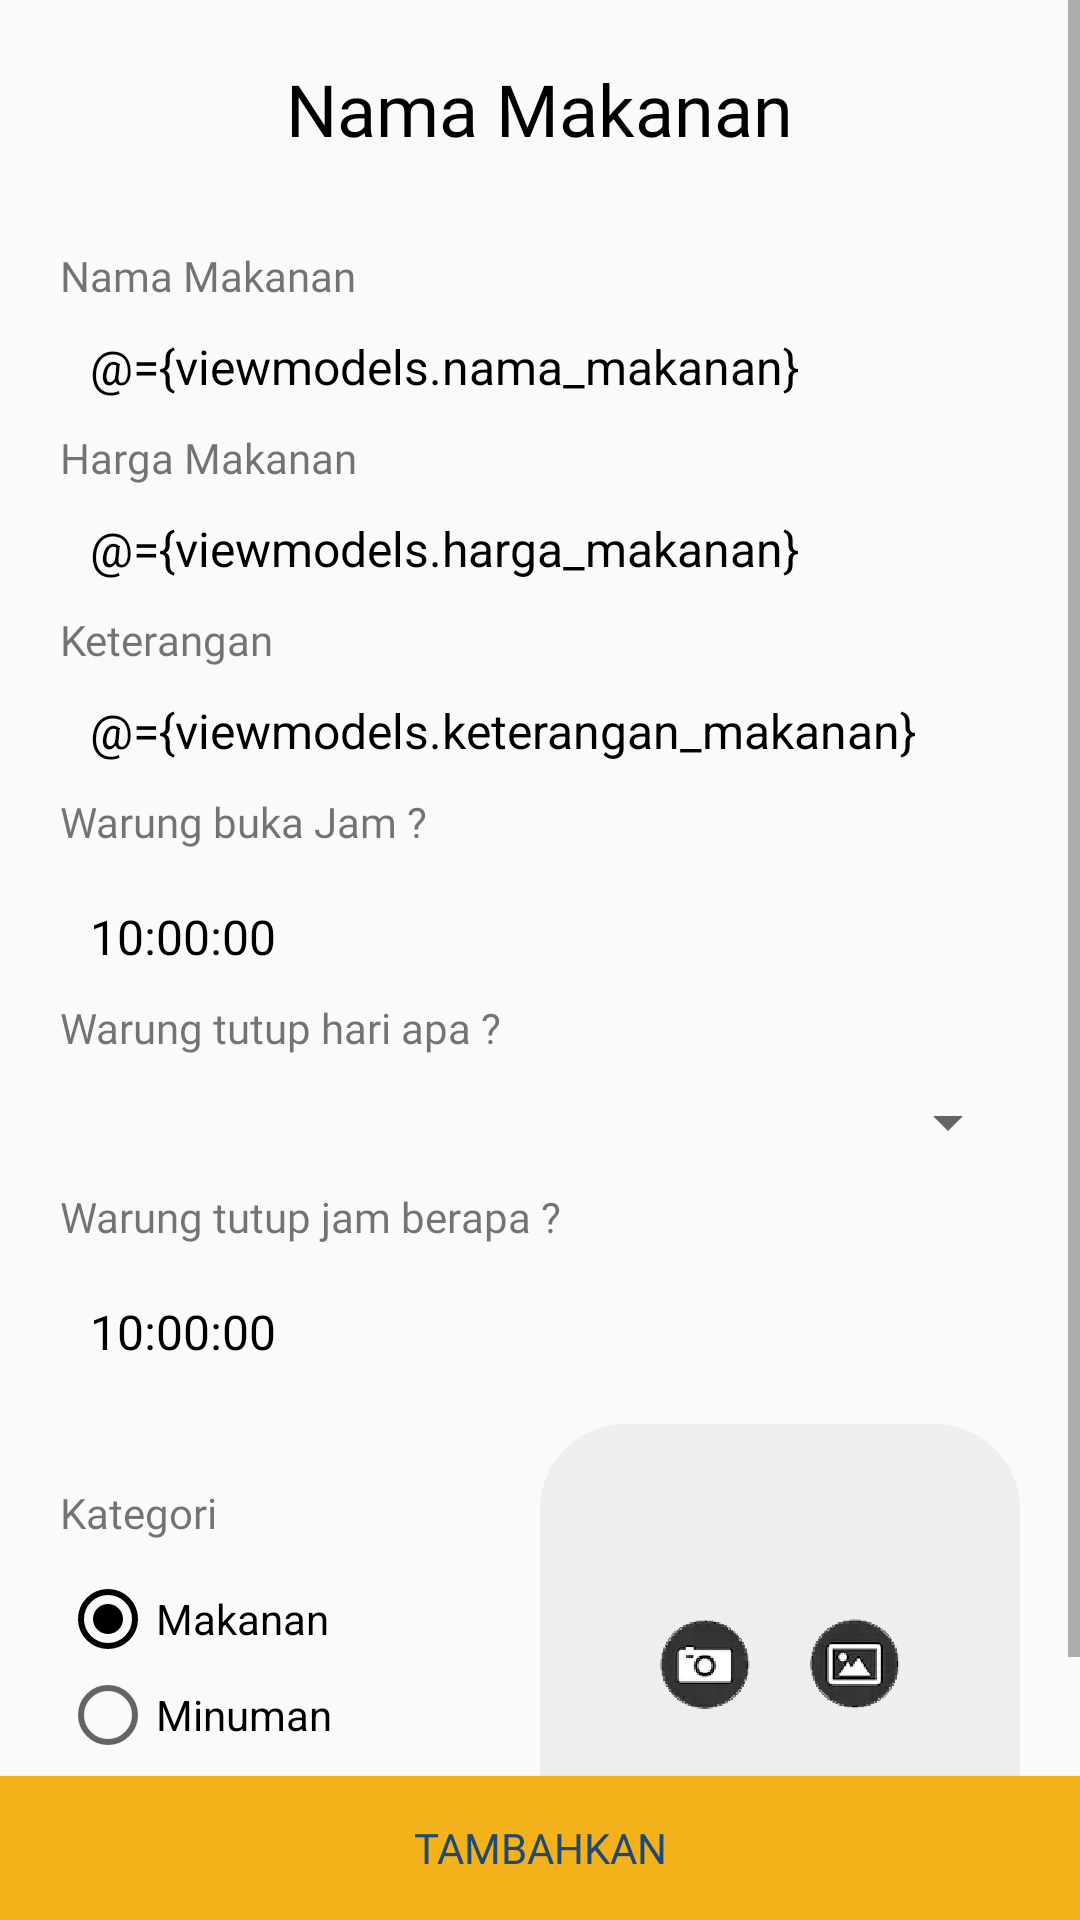

Icon bounding boxes for this 1080w x 1920h phone screenshot, format [x1,y1,x2,y2]:
camera: [660,1620,750,1709]
galery: [810,1619,899,1708]
